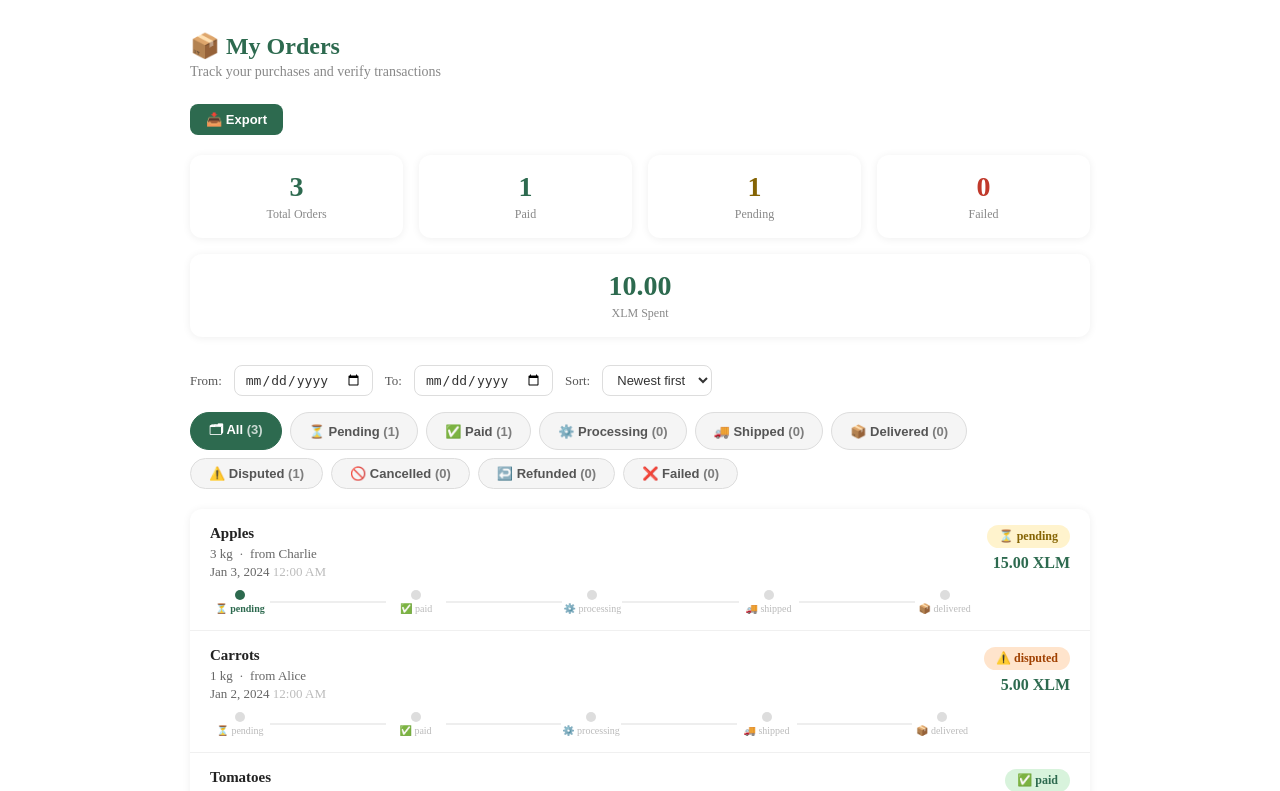
Test: #428 Orders status filter › selecting "Disputed" filter shows only disputed orders
Check: the text "Tomatoes" is shown, box left=210, top=769, right=271, bottom=785
Step 1. Click the button "⚠️ Disputed (1)" → (256, 474), box left=190, top=458, right=323, bottom=489
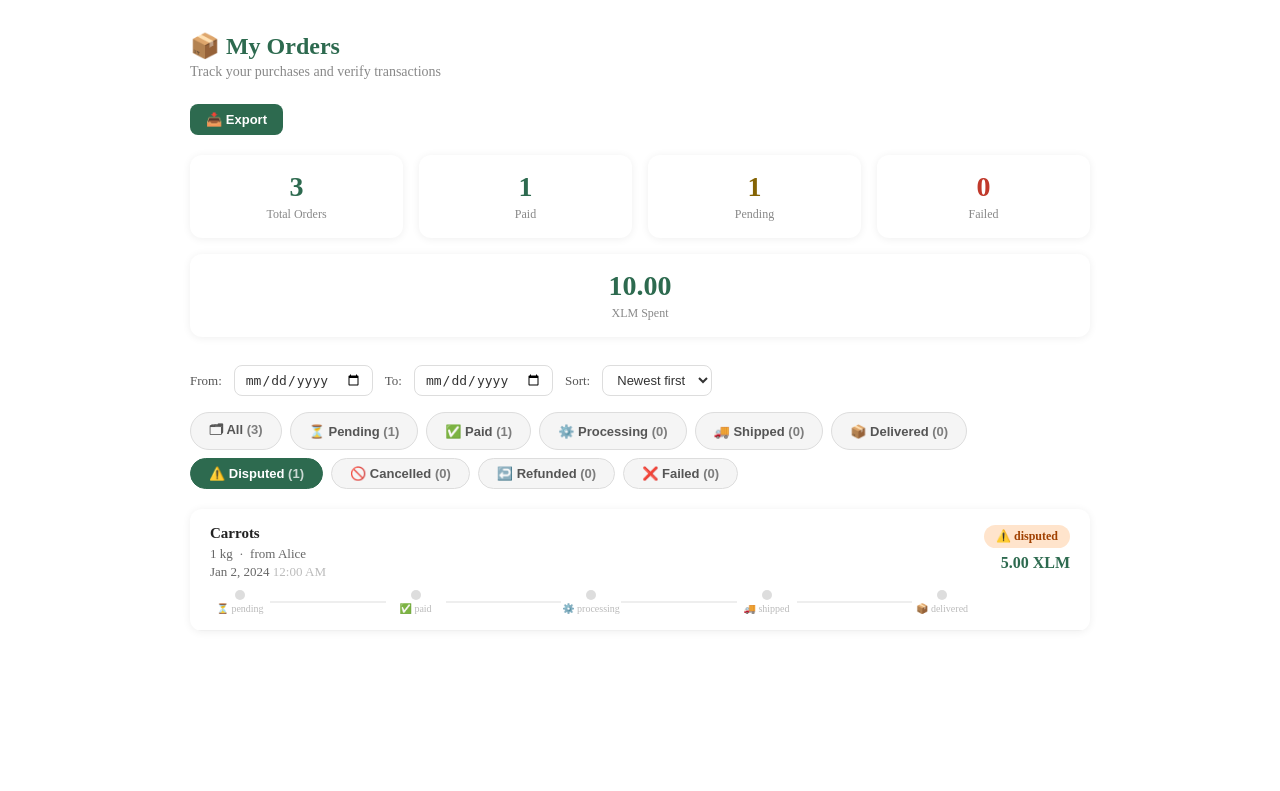
Check: the text "Carrots" is shown, box left=210, top=525, right=260, bottom=541
Check: the text "Tomatoes" is gone
Check: the text "Apples" is gone
